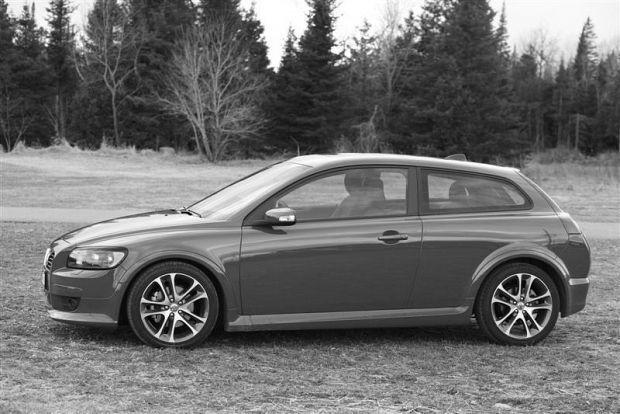car: (41, 152, 592, 350)
